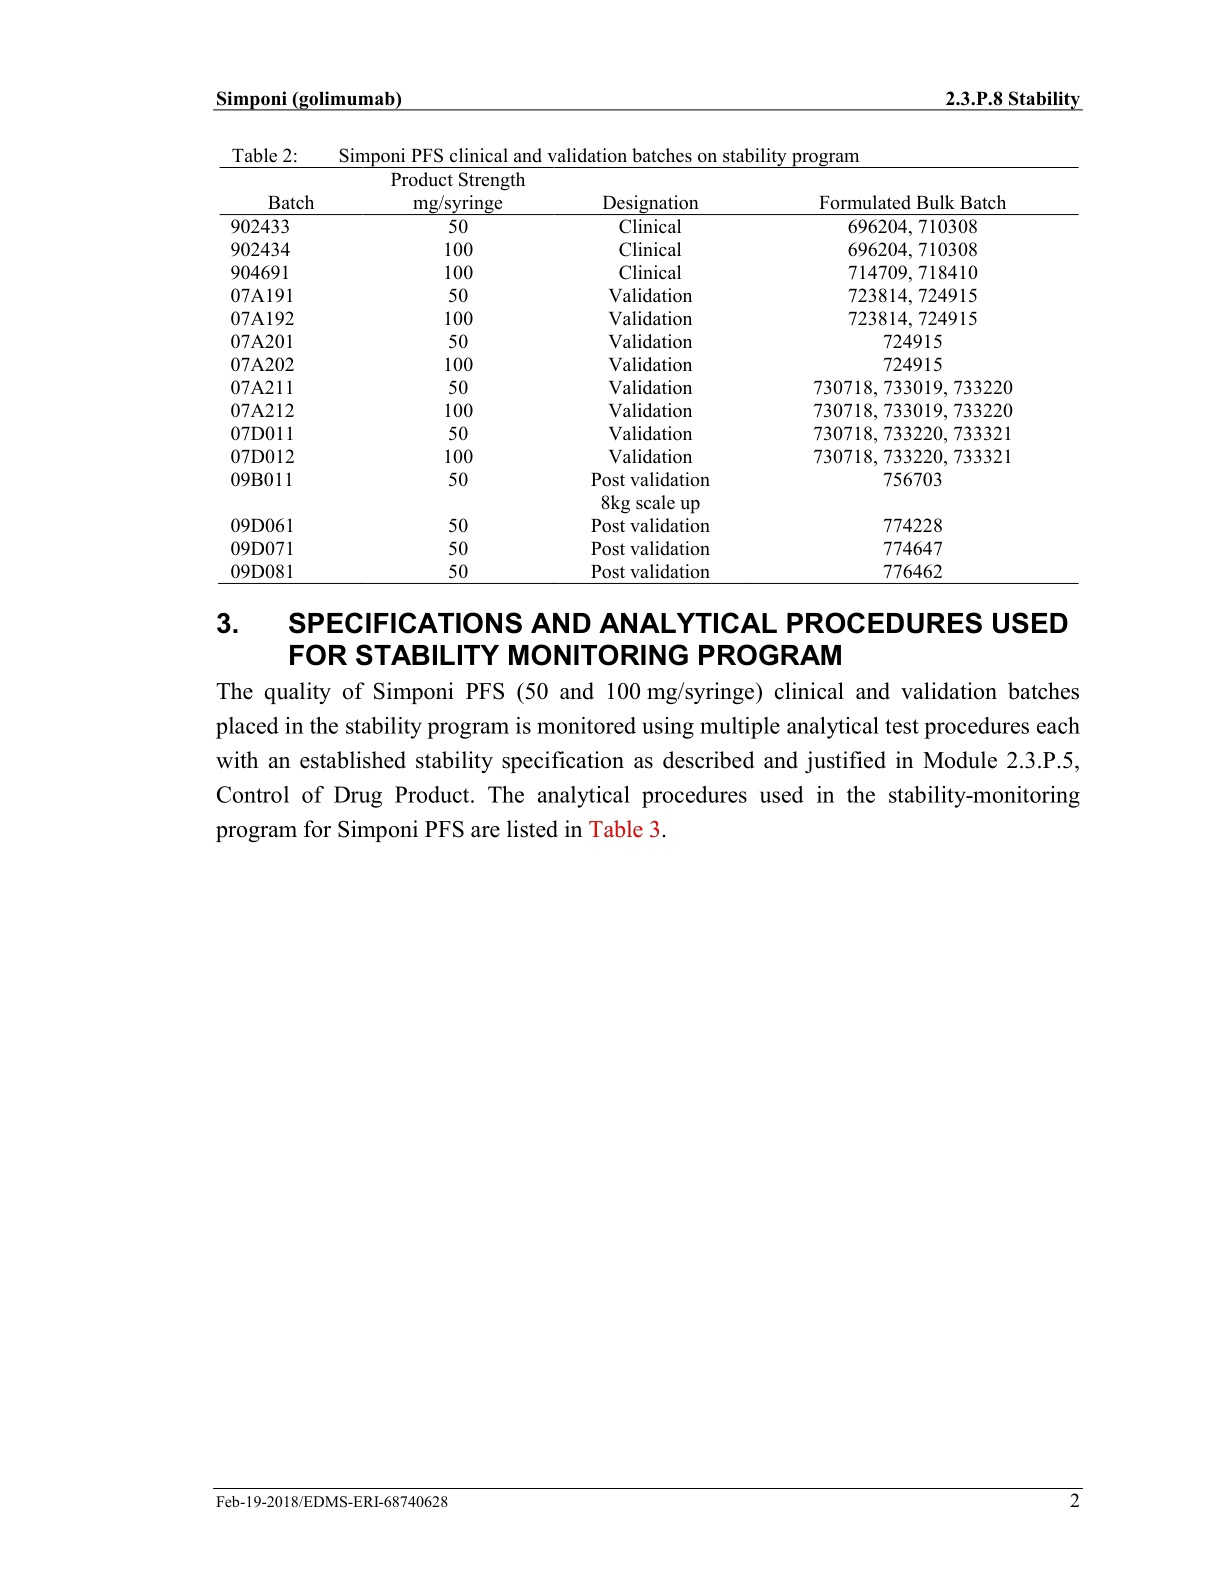partial_lined: (219, 166, 1079, 585)
